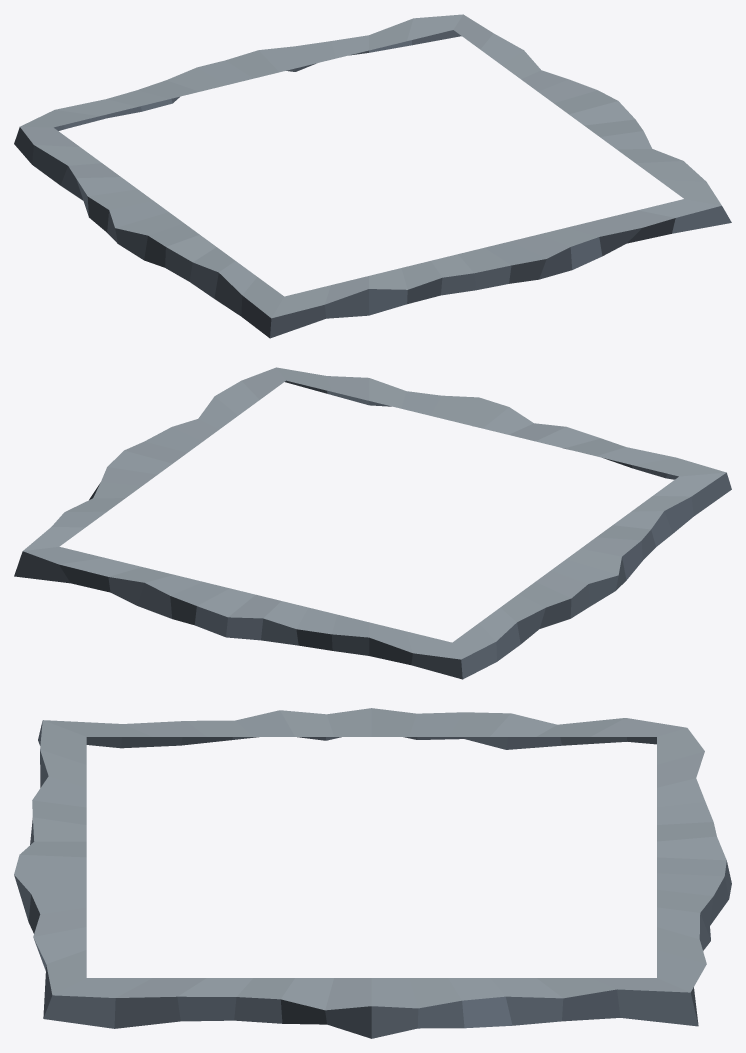
File: entorno_16.glb
3 renders of one model, top to bottom at view 1: azimuth 30°, elevation 25°; view 2: azimuth 150°, elevation 25°; view 3: azimuth 270°, elevation 25°, orthographic. The views are drawn at different scales.
Visible parts, largest first — view 1: pedreira_entorno_16; view 2: pedreira_entorno_16; view 3: pedreira_entorno_16.
Part boxes in pixels (x1=…): pedreira_entorno_16: x1=14, y1=14, x2=731, y2=338; pedreira_entorno_16: x1=14, y1=367, x2=731, y2=679; pedreira_entorno_16: x1=14, y1=708, x2=731, y2=1038.
Size of the model in its own units: 20.59 by 1.07 by 20.39.
